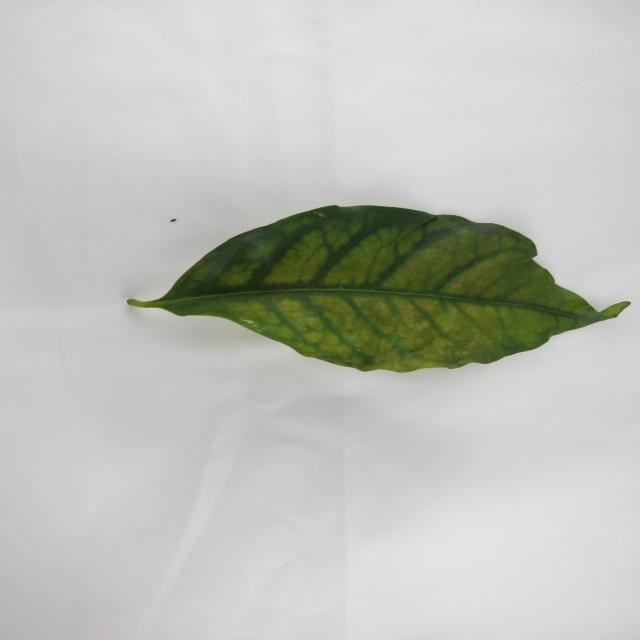DeficienciaNutricional-Magnesio: (128, 206, 628, 371)
